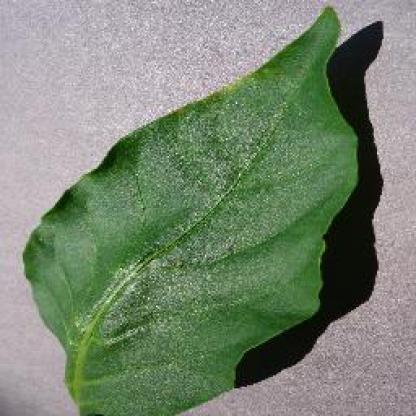bad leaf: (52, 4, 348, 415)
